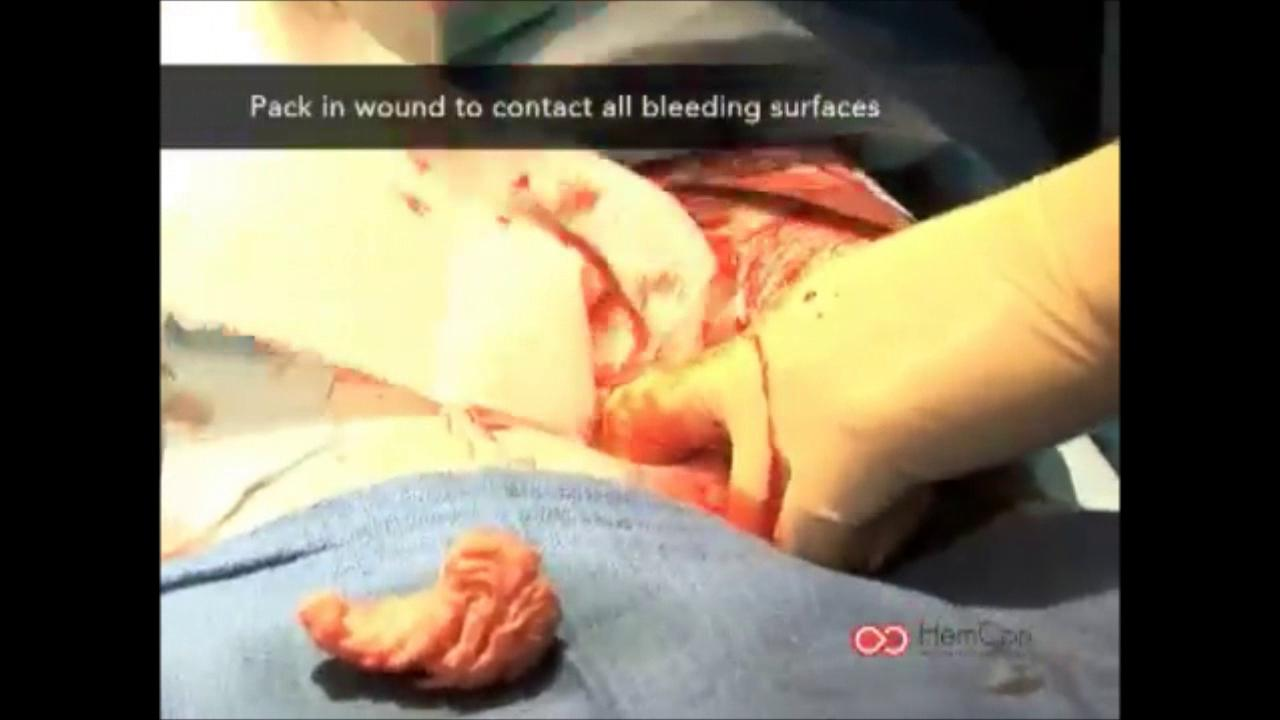gauze: (294, 526, 565, 706)
